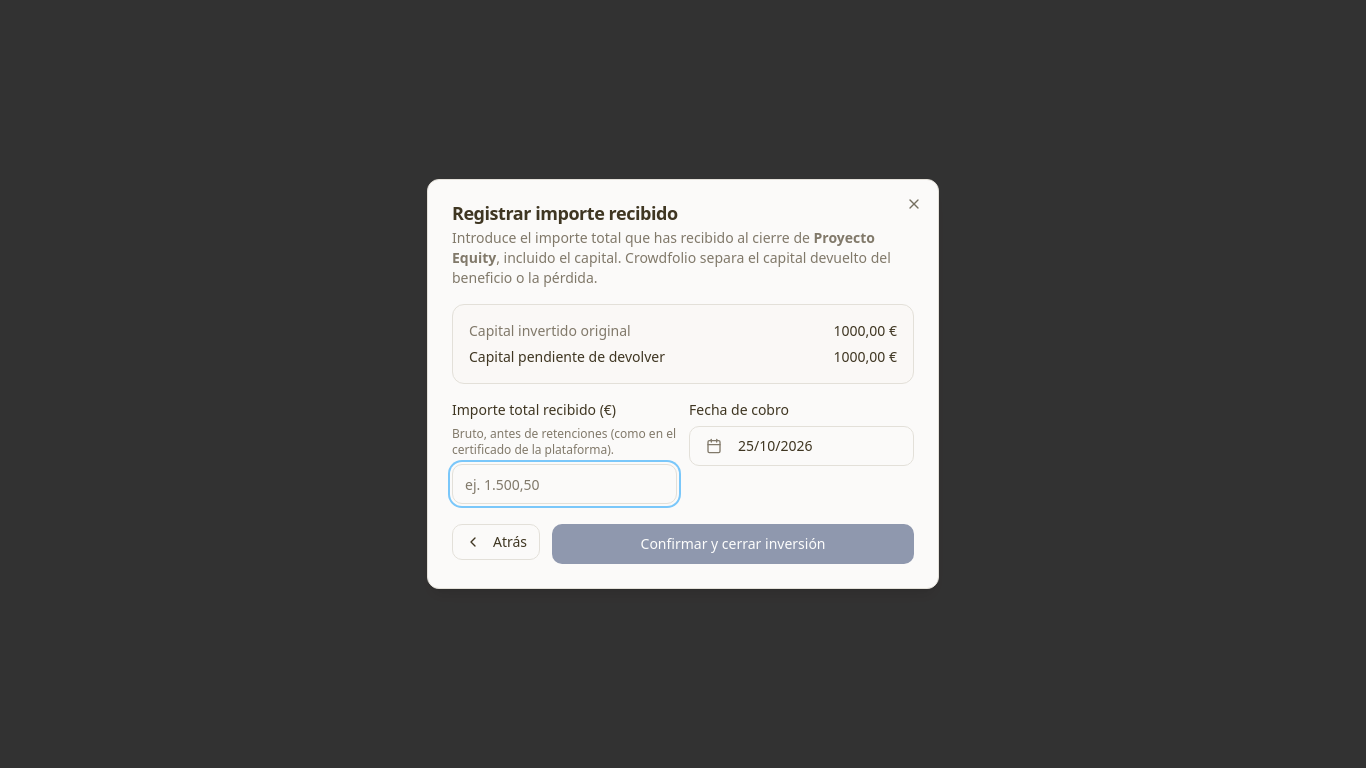
Test: EquityExitForm › con pérdida avisa de que es pérdida patrimonial a declarar manualmente
Type "700" into the field with placeholder "ej. 1.500,50" at [564, 484], box [452,464,677,504]
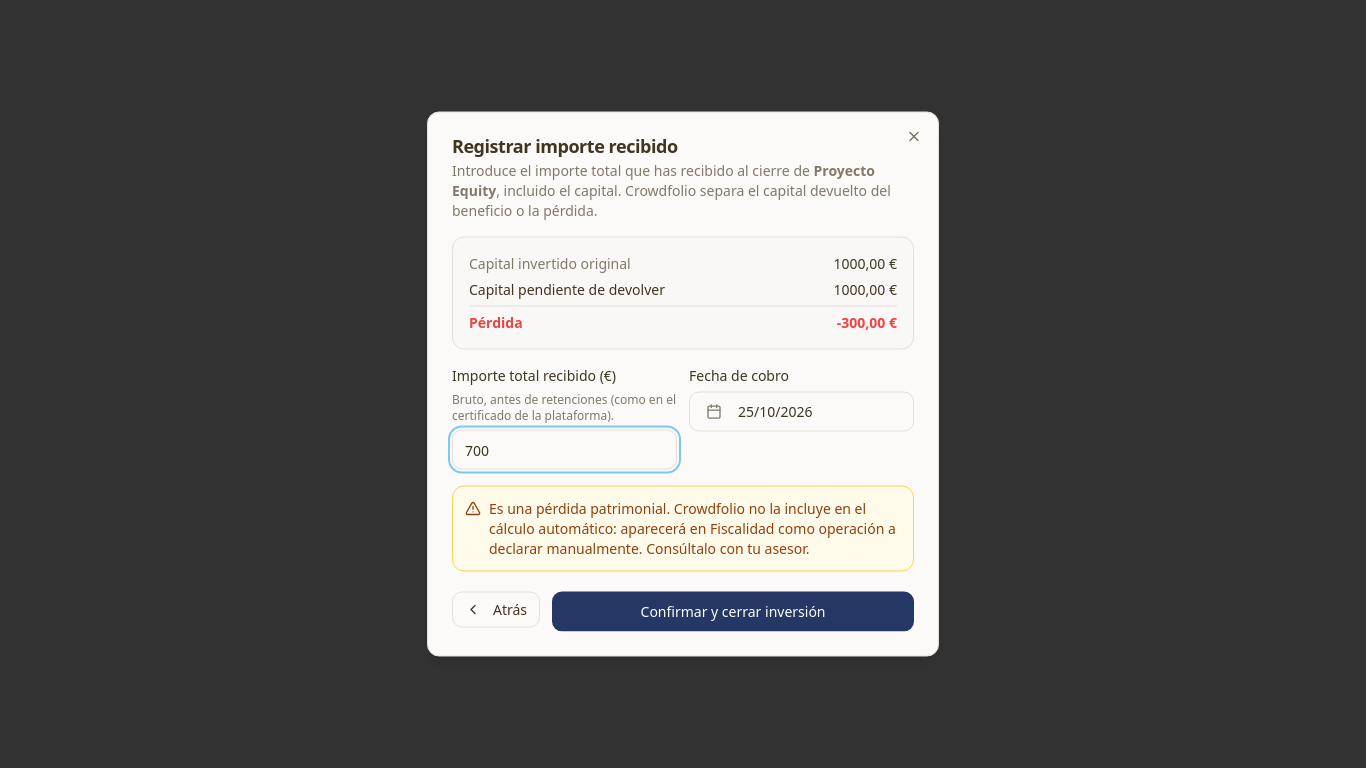
Expected: the text "pérdida patrimonial" is shown, [489,498,670,518]
